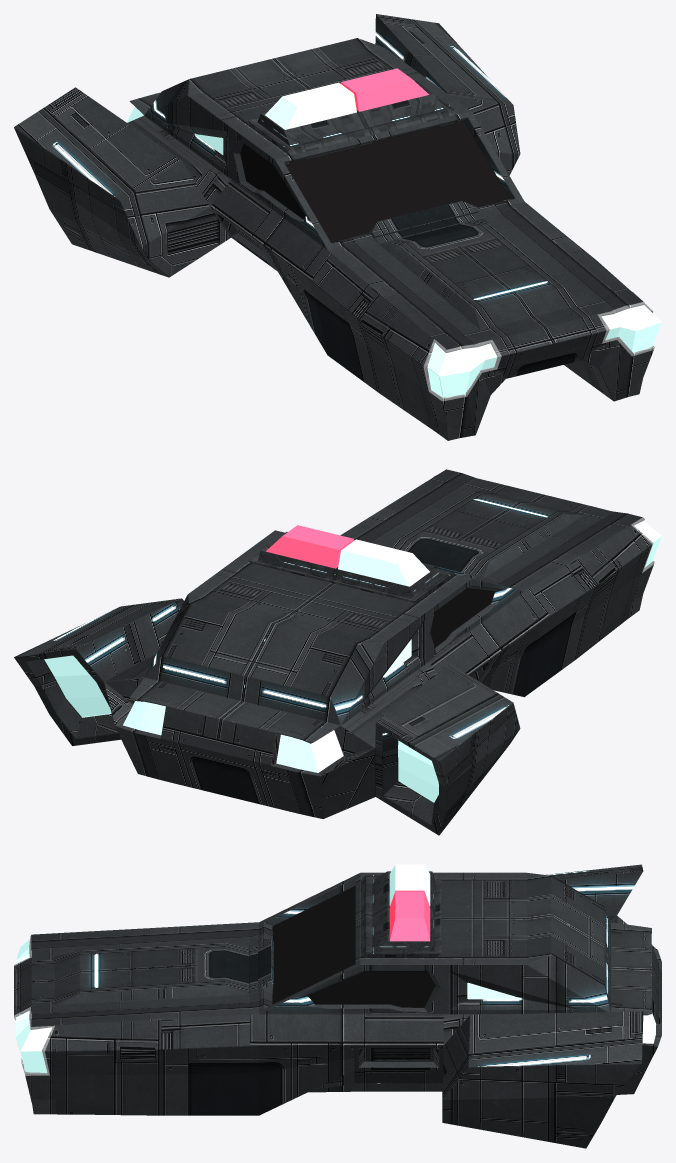
Rendered from scifipolicecar.glb.
3 renders of one model, top to bottom at view 1: azimuth 30°, elevation 25°; view 2: azimuth 150°, elevation 25°; view 3: azimuth 270°, elevation 25°, orthographic. The views are drawn at different scales.
Parts seen in each view (by area): view 1: Cube, Cube.002; view 2: Cube, Cube.002; view 3: Cube, Cube.002.
Boxes of the visible parts, left/top/right/bottom form: Cube: left=14, top=14, right=661, bottom=440; Cube.002: left=248, top=68, right=455, bottom=155; Cube: left=14, top=469, right=661, bottom=835; Cube.002: left=248, top=525, right=455, bottom=603; Cube: left=14, top=864, right=661, bottom=1148; Cube.002: left=361, top=864, right=441, bottom=957.
Bounding box in the file's own units: 24.57 × 10.33 × 33.82.
Materials: 5 (2 with a texture image).
